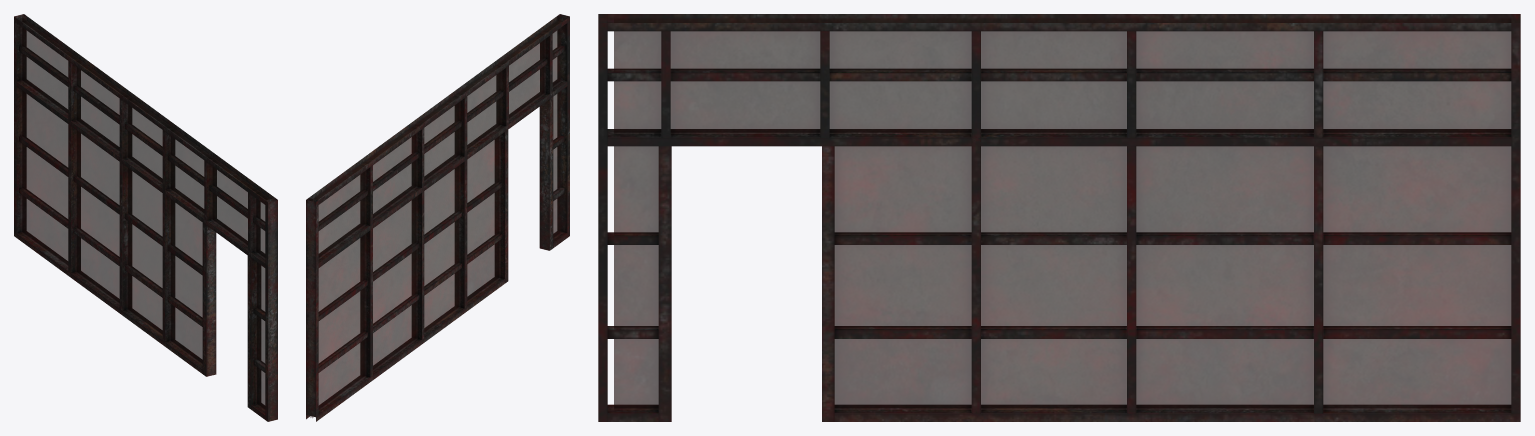
Rendered from TR_MetalBlinds_01.FBX.
The picture shows the model from 3 angles, left to right: view 1: azimuth 30°, elevation 25°; view 2: azimuth 150°, elevation 25°; view 3: azimuth 270°, elevation 25°; orthographic projection. The views are drawn at different scales.
Parts seen in each view (by area): view 1: TR_MetalBlinds_01; view 2: TR_MetalBlinds_01; view 3: TR_MetalBlinds_01.
Part boxes in pixels (<box>): TR_MetalBlinds_01: <box>14,14,277,421</box>; TR_MetalBlinds_01: <box>306,14,569,421</box>; TR_MetalBlinds_01: <box>598,14,1520,421</box>.
Bounding box in the file's own units: 15 × 313 × 655.
